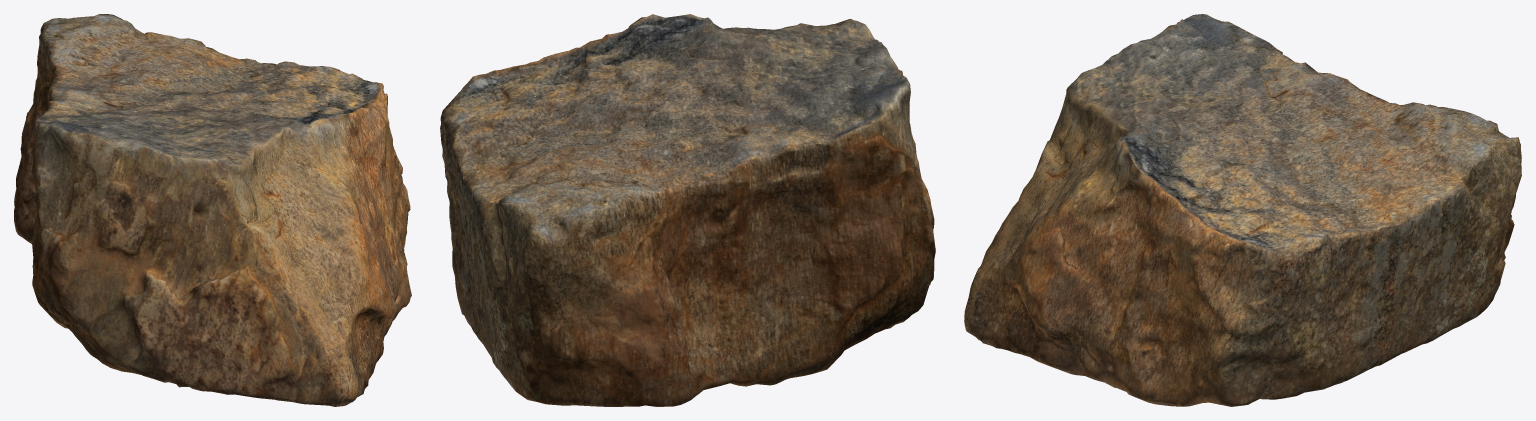
File: namaqualand_boulder_03.glb
3 renders of one model, left to right at view 1: azimuth 30°, elevation 25°; view 2: azimuth 150°, elevation 25°; view 3: azimuth 270°, elevation 25°, orthographic. The views are drawn at different scales.
Visible parts, largest first — view 1: namaqualand_boulder_03; view 2: namaqualand_boulder_03; view 3: namaqualand_boulder_03.
Boxes of the visible parts, <box> form: namaqualand_boulder_03: <box>14,14,411,406</box>; namaqualand_boulder_03: <box>440,14,935,406</box>; namaqualand_boulder_03: <box>964,14,1521,406</box>.
Size of the model in its own units: 2.4 by 1.47 by 3.06.
Materials: 1 (1 with a texture image).
